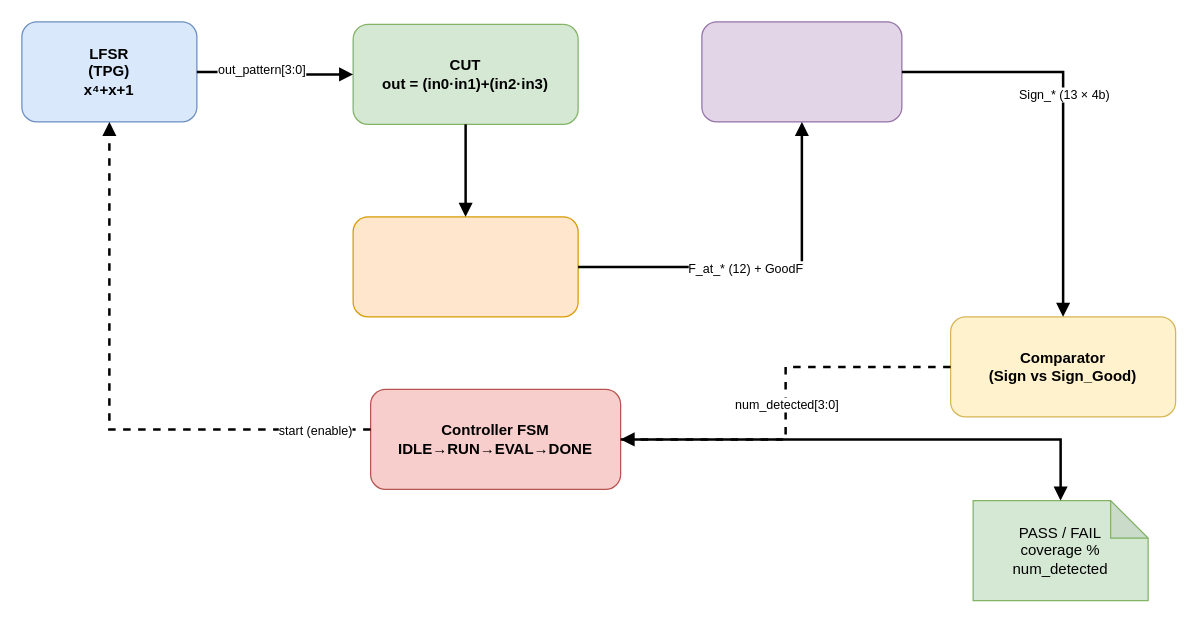
Some shapes in this 1198 by 623 pixel diagram are drawn without their labels. Each missing label, with the centre of its shape:
MISR (13 × 4-bit ORA): (x=801, y=71)
Stuck-At Fault Model (12 faults): (x=465, y=266)
